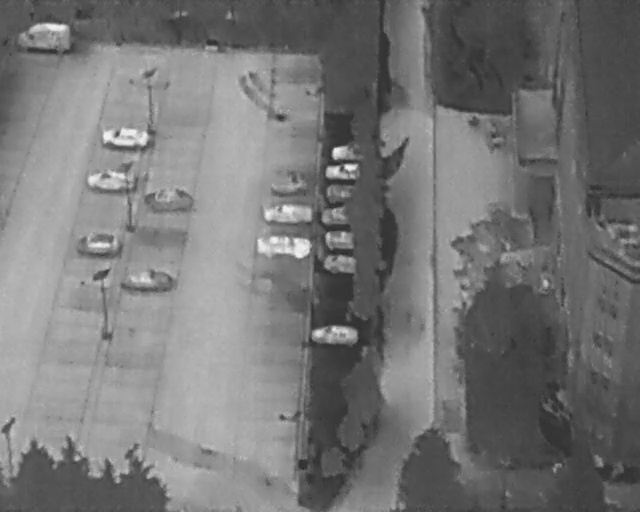Car: (17, 21, 71, 54), (255, 235, 311, 258), (143, 188, 193, 210), (101, 128, 152, 149), (86, 170, 135, 191), (261, 205, 313, 224), (121, 271, 171, 290), (76, 234, 121, 255), (310, 325, 358, 343), (323, 253, 359, 276), (330, 143, 367, 162), (325, 230, 360, 250), (325, 163, 362, 180), (326, 183, 359, 202), (322, 207, 354, 225)
